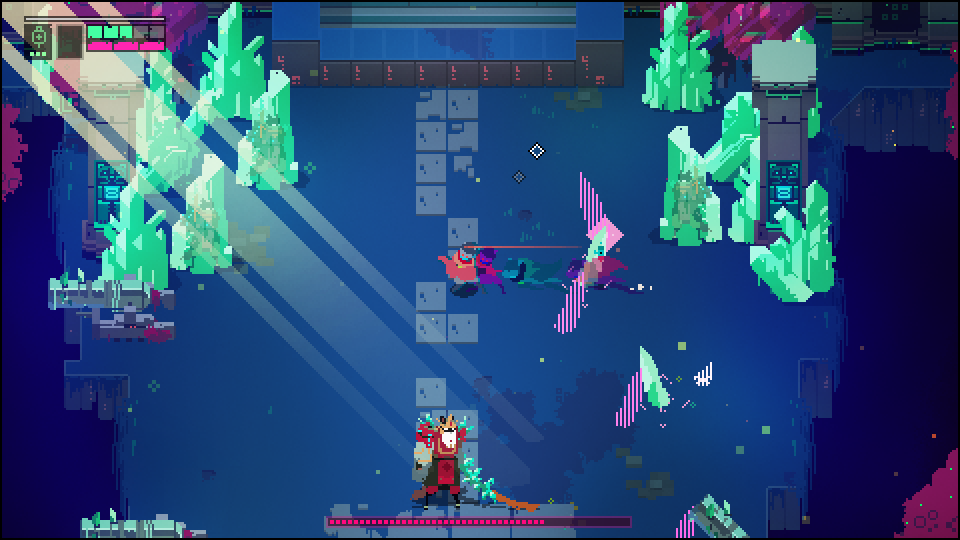hanged_crys: (635, 340, 672, 413), (549, 275, 588, 335), (575, 177, 609, 235), (614, 368, 643, 430)
hanged_man: (413, 410, 494, 506)
player: (438, 239, 493, 300)
